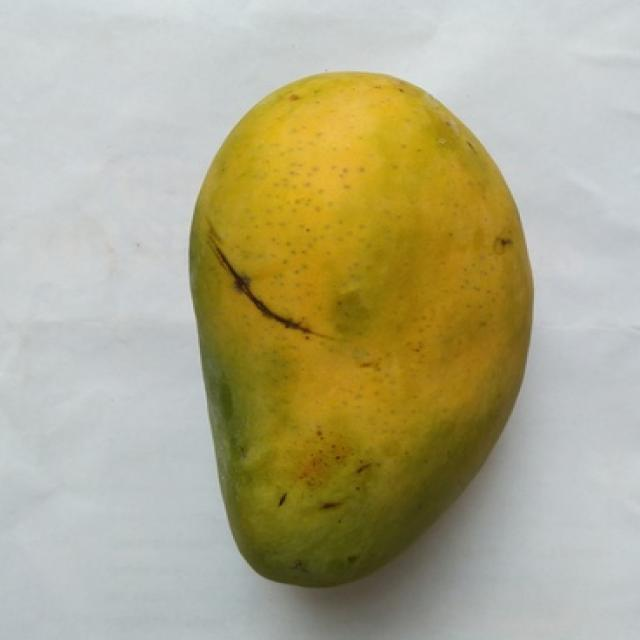Mango: (190, 73, 530, 584)
